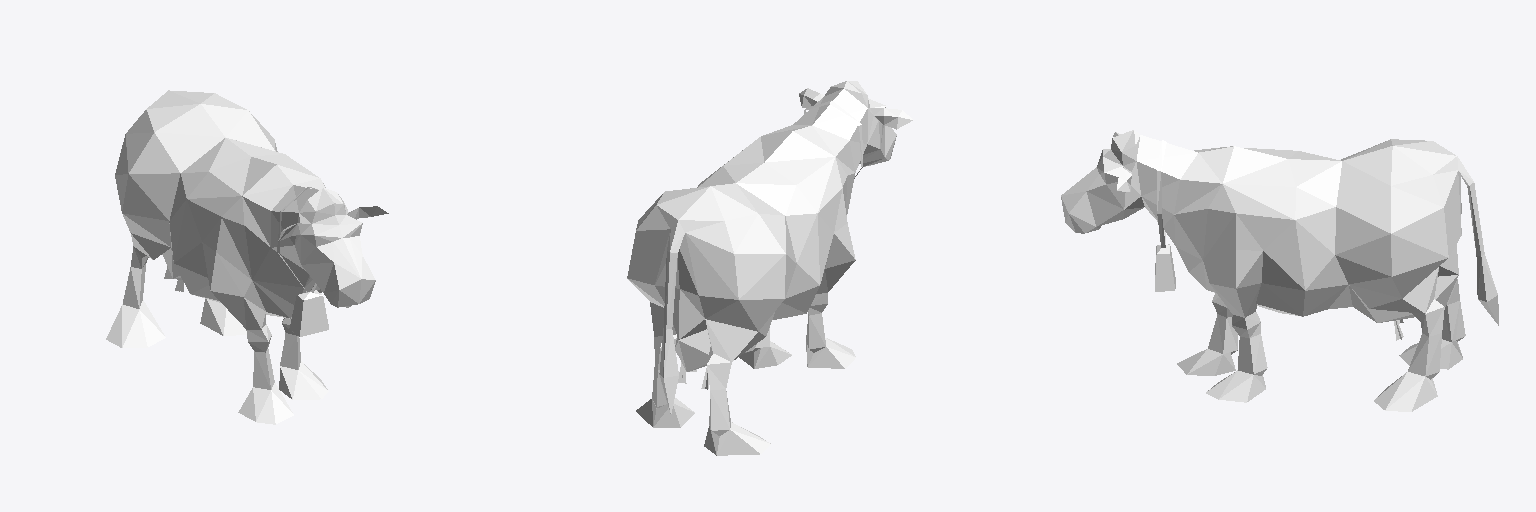
Rendered from cow_[1]_Stand_2137.obj.
3 views of the same model, side by side, from view 1: azimuth 30°, elevation 25°; view 2: azimuth 150°, elevation 25°; view 3: azimuth 270°, elevation 25° (orthographic).
Visible parts, largest first — view 1: Geoset_000; view 2: Geoset_000; view 3: Geoset_000.
Boxes of the visible parts, box(x1,y1,x2,y2) form: Geoset_000: box(106, 90, 388, 424); Geoset_000: box(627, 81, 912, 455); Geoset_000: box(1061, 130, 1498, 411).
Size of the model in its own units: 1.17 by 1.83 by 2.94.